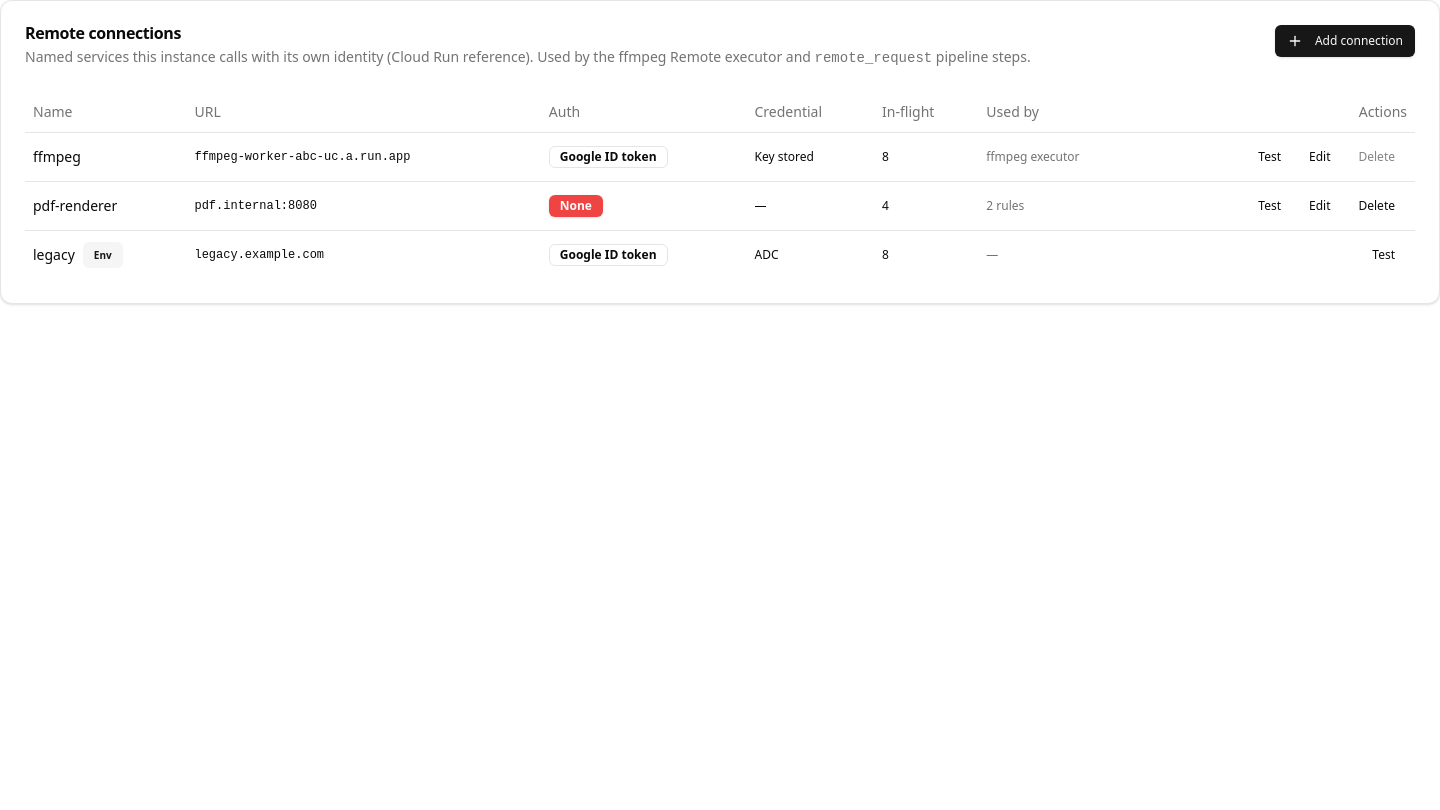
Test case: RemoteConnectionsSettings › auth none shows the destructive no-authentication alert
Click the button "Edit" in the row of "pdf-renderer". click: (1320, 206)
box: [1297,190,1342,222]
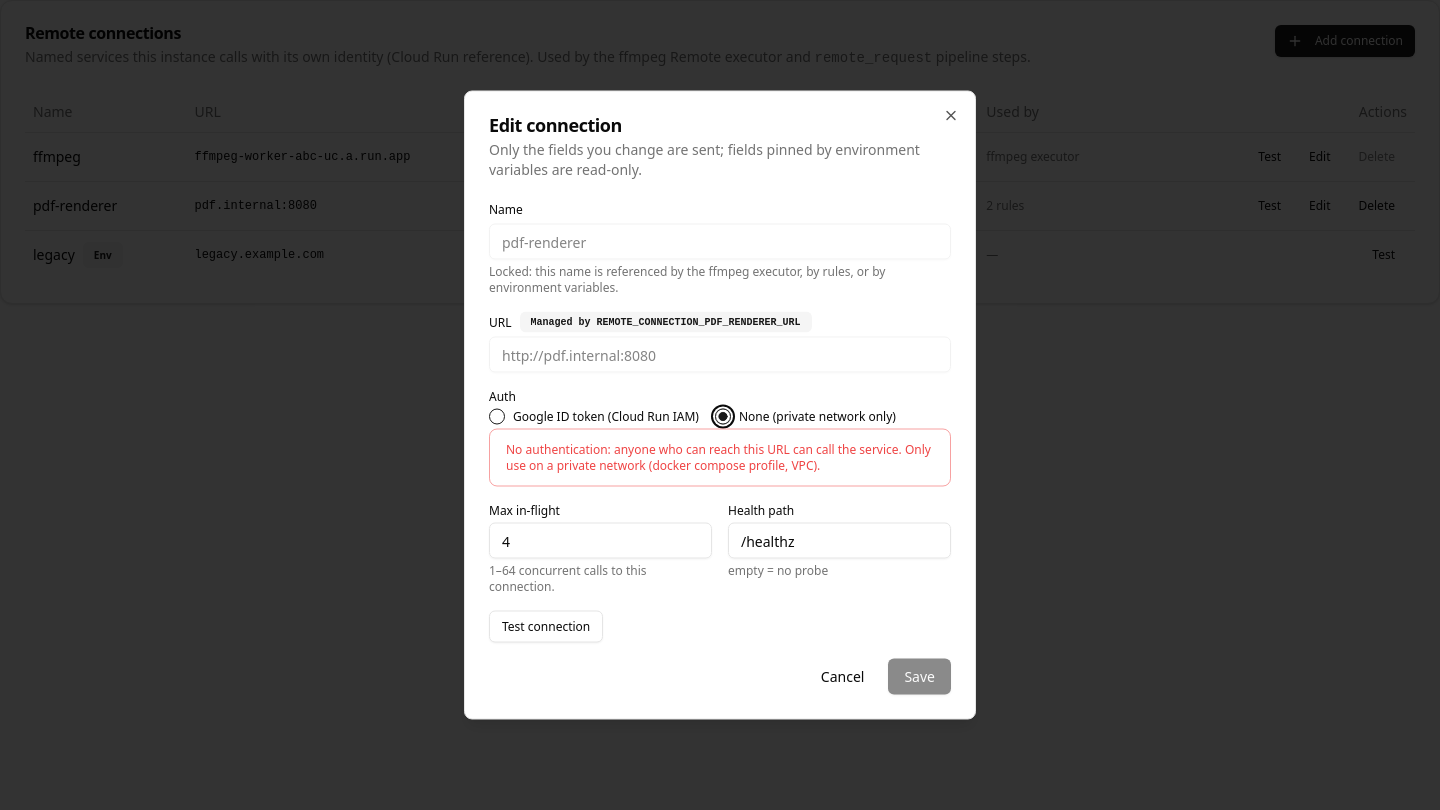
Now the text "No authentication" is shown, box [506,440,931,474]
